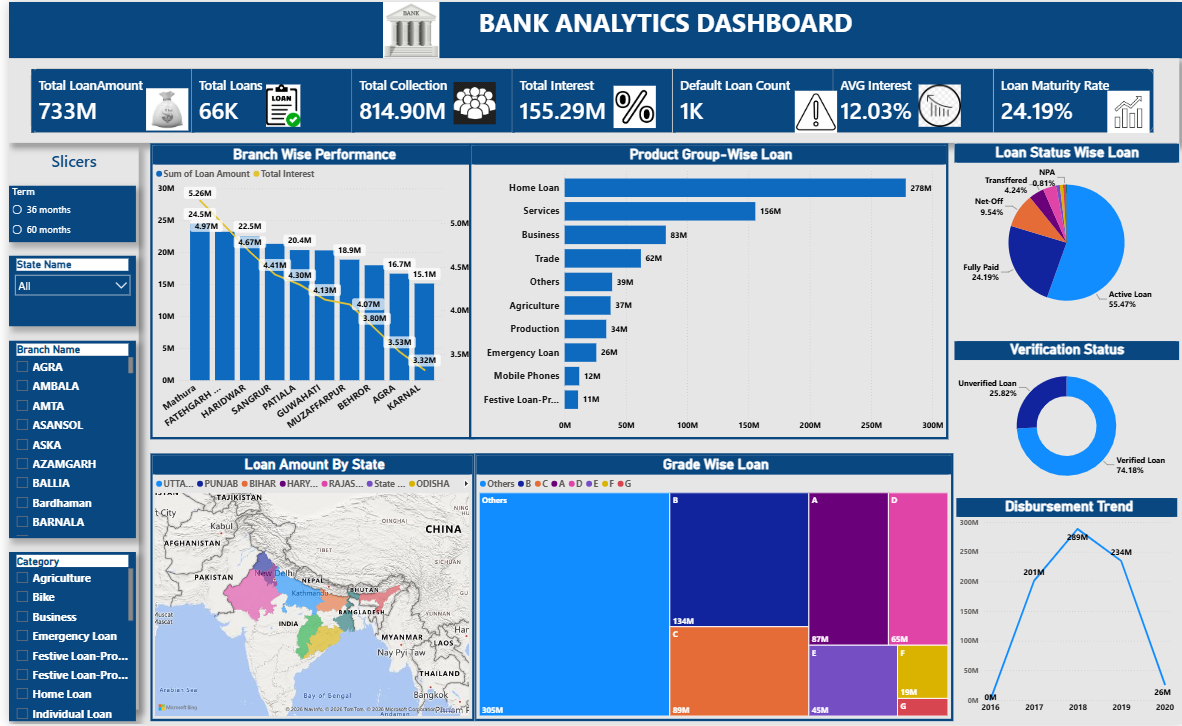

The page's visual inventory and layout, read from the dashboard file:
{"tool":"tableau","page":{"name":"Dashboard 1","canvas":[1000,1000],"units":"permille","ordinal":0},"visuals":[{"type":"text","box":[4.8,9.4,315,115.1]},{"type":"worksheet","title":"KPI's","mark":"Automatic","box":[319.9,9.4,675.3,115.1]},{"type":"dashboard-object","box":[365.7,9.4,14.5,28.2]},{"type":"image","param":"Image/bank llohgo1.png","box":[6.5,11.8,83.9,109.3]},{"type":"image","param":"Image/defaultimage.png","box":[812.3,47,83.9,64.6]},{"type":"image","param":"Image/deliqimages.jpg","box":[325.9,48.2,103.8,64.6]},{"type":"image","param":"Image/Picture1.jpg","box":[430.3,48.2,83.3,64.6]},{"type":"image","param":"Image/images% int.jpg","box":[718.2,48.2,92.3,63.5]},{"type":"image","param":"Image/deliqimages2.png","box":[897.4,48.2,91.7,62.3]},{"type":"image","param":"Image/%bank.jpg","box":[516,49.4,103.8,62.3]},{"type":"image","param":"Image/images2.jpg","box":[620.4,50.5,95.4,61.1]},{"type":"filter","title":"State wise Loan","param":"[federated.09ncz721xuv75j17ba6510lsigww].[none:State Name:nk]","box":[4.8,124.5,123.7,94]},{"type":"worksheet","title":"Branch wise Performance","mark":"Automatic","rows":["Loan Amount","Total Fees"],"cols":["Branch Name"],"box":[128.5,124.5,317.2,472.1]},{"type":"worksheet","title":"Purpose Category wise loan","mark":"Automatic","box":[445.8,124.5,273.2,472.1]},{"type":"worksheet","title":"Gradewise loan","mark":"Automatic","rows":["grade"],"cols":["Loan Amount"],"box":[719,124.5,276.2,472.1]},{"type":"filter","title":"Loan Disbursement Trend","param":"[federated.09ncz721xuv75j17ba6510lsigww].[none:Disbursement Date (Years):nk]","box":[4.8,218.6,123.7,96.4]},{"type":"filter","title":"Gradewise loan","param":"[federated.09ncz721xuv75j17ba6510lsigww].[none:Term:nk]","box":[4.8,314.9,123.7,112.8]},{"type":"filter","title":"Gradewise loan","param":"[federated.09ncz721xuv75j17ba6510lsigww].[none:Purpose Category:nk]","box":[4.8,427.7,123.7,88.1]},{"type":"filter","title":"Branch wise Performance","param":"[federated.09ncz721xuv75j17ba6510lsigww].[none:Branch Name:nk]","box":[4.8,515.9,123.7,80.7]},{"type":"worksheet","title":"State wise Loan","mark":"Automatic","box":[4.8,596.6,318.5,394]},{"type":"worksheet","title":"Loan Status wise loan","mark":"Pie","rows":["Calculation_0745488092364800","Calculation_0745488092364800"],"box":[323.3,596.6,257.6,394]},{"type":"worksheet","title":"Age Group wise Loan","mark":"Pie","box":[581,596.6,207.1,394]},{"type":"worksheet","title":"Loan Disbursement Trend","mark":"Line","rows":["Loan Amount"],"cols":["Disbursement Date"],"box":[788,596.6,207.1,394]}]}

Visuals, with their boxes on the dashboard's canvas, which has no fixed pixel size, in thousandths of its width and height (x1, y1, x2, y2). These are canvas units, not pixel positions in the 1182x726 screenshot, which may show the page scaled, cropped or inside an application window:
text: Rect(5, 9, 320, 124)
"KPI's" worksheet: Rect(320, 9, 995, 124)
dashboard-object: Rect(366, 9, 380, 38)
image: Rect(6, 12, 90, 121)
image: Rect(812, 47, 896, 112)
image: Rect(326, 48, 430, 113)
image: Rect(430, 48, 514, 113)
image: Rect(718, 48, 810, 112)
image: Rect(897, 48, 989, 110)
image: Rect(516, 49, 620, 112)
image: Rect(620, 50, 716, 112)
"State wise Loan" filter: Rect(5, 124, 128, 218)
"Branch wise Performance" worksheet: Rect(128, 124, 446, 597)
"Purpose Category wise loan" worksheet: Rect(446, 124, 719, 597)
"Gradewise loan" worksheet: Rect(719, 124, 995, 597)
"Loan Disbursement Trend" filter: Rect(5, 219, 128, 315)
"Gradewise loan" filter: Rect(5, 315, 128, 428)
"Gradewise loan" filter: Rect(5, 428, 128, 516)
"Branch wise Performance" filter: Rect(5, 516, 128, 597)
"State wise Loan" worksheet: Rect(5, 597, 323, 991)
"Loan Status wise loan" worksheet (Pie marks): Rect(323, 597, 581, 991)
"Age Group wise Loan" worksheet (Pie marks): Rect(581, 597, 788, 991)
"Loan Disbursement Trend" worksheet (Line marks): Rect(788, 597, 995, 991)
